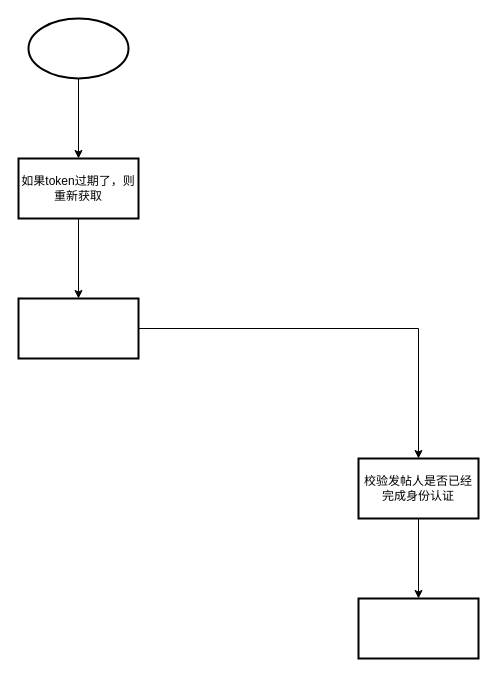
This 496x676 diagram has some shape labels left out. Each missing label, with the centre of its shape:
"从后端获取当前帖子的详情信息" goes at point (78, 328).
"开始" goes at point (78, 48).
